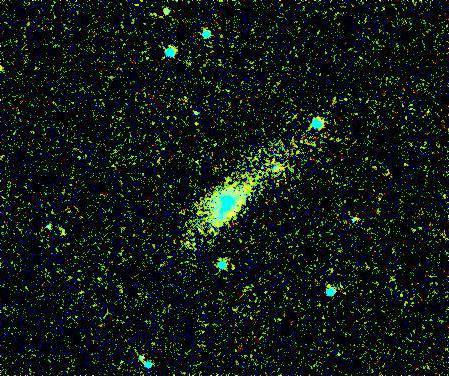star: (180, 109, 210, 139)
